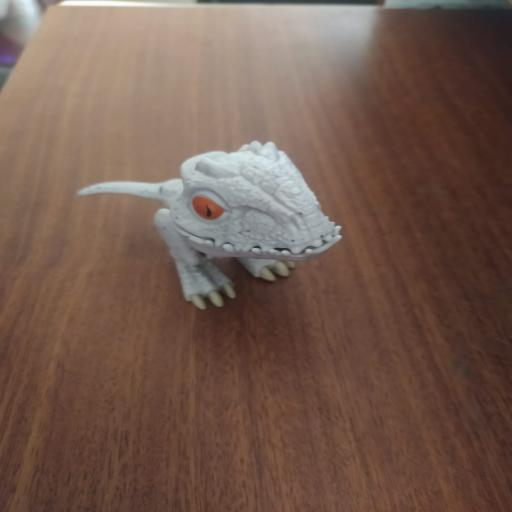Dinosaurio: (72, 134, 352, 314)
